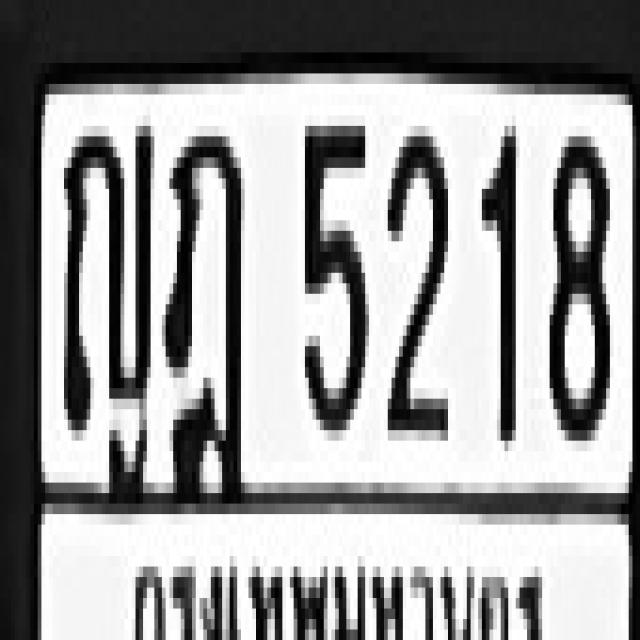-: (162, 121, 245, 498), (60, 116, 151, 430)
1: (478, 116, 512, 430)
2: (384, 116, 444, 430)
5: (301, 115, 365, 420)
8: (546, 126, 606, 430)
